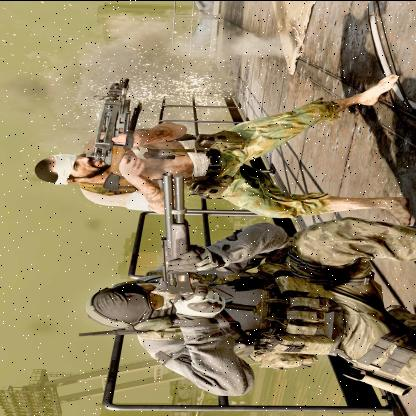rifle: (157, 170, 219, 303)
